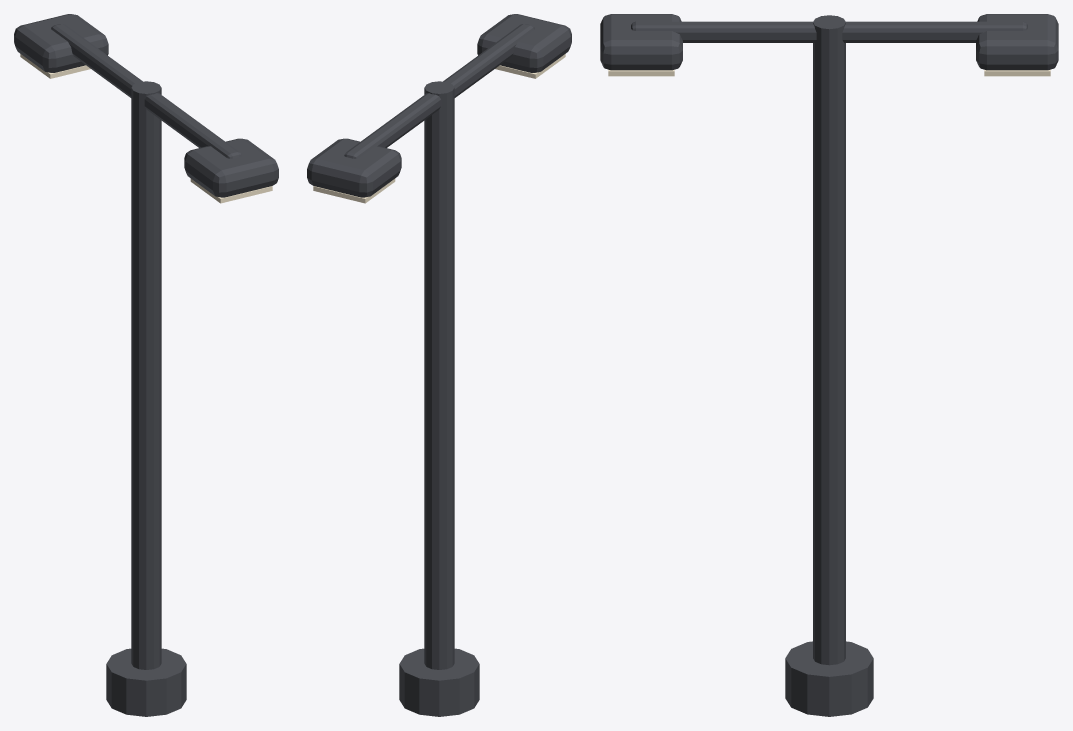
File: LampB.fbx
3 renders of one model, left to right at view 1: azimuth 30°, elevation 25°; view 2: azimuth 150°, elevation 25°; view 3: azimuth 270°, elevation 25°, orthographic. The views are drawn at different scales.
Visible parts, largest first — view 1: Dark.001, Glow.001; view 2: Dark.001, Glow.001; view 3: Dark.001, Glow.001.
Part boxes in pixels (x1,y1,x2,y2): Dark.001: [14, 14, 278, 716]; Glow.001: [20, 54, 272, 203]; Dark.001: [307, 14, 571, 716]; Glow.001: [313, 54, 565, 203]; Dark.001: [600, 14, 1058, 716]; Glow.001: [608, 69, 1050, 76].
Size of the model in its own units: 1.6 by 13.5 by 8.3.
